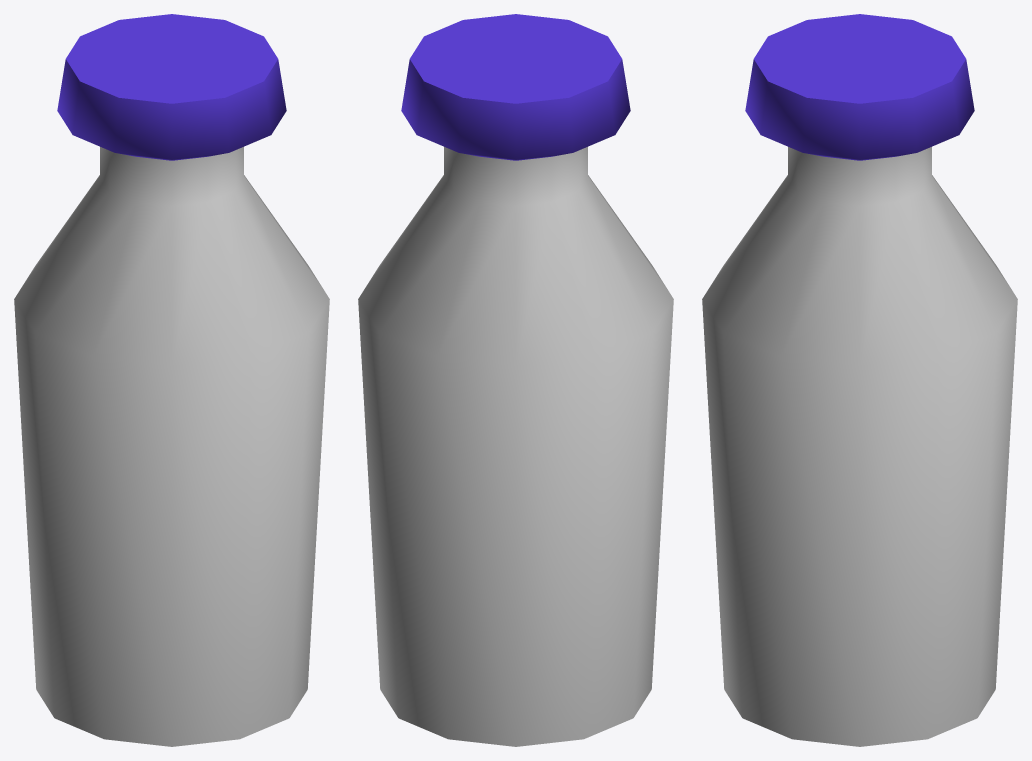
The model's file is SM_Bouteille.fbx.
3 renders of one model, left to right at view 1: azimuth 30°, elevation 25°; view 2: azimuth 150°, elevation 25°; view 3: azimuth 270°, elevation 25°, orthographic.
Parts seen in each view (by area): view 1: Cylinder; view 2: Cylinder; view 3: Cylinder.
Part boxes in pixels (x1=…): Cylinder: x1=14, y1=14, x2=329, y2=746; Cylinder: x1=358, y1=14, x2=673, y2=746; Cylinder: x1=702, y1=14, x2=1017, y2=746.
Bounding box in the file's own units: 34.88 × 76.87 × 34.88.
